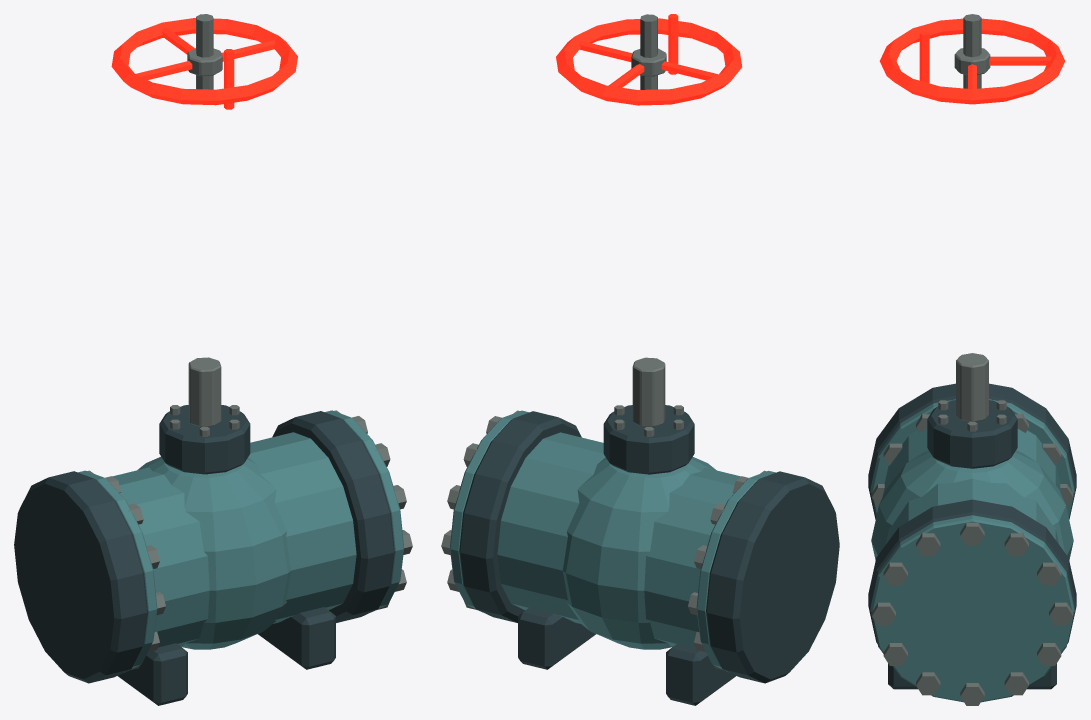
File: pipe-valve.glb
3 views of the same model, side by side, from view 1: azimuth 30°, elevation 25°; view 2: azimuth 150°, elevation 25°; view 3: azimuth 270°, elevation 25° (orthographic).
Visible parts, largest first — view 1: pipe-valve__pipe-valve__steel, pipe-valve__pipe-valve__petrol, pipe-valve__valve-wheel__danger-red, pipe-valve__pipe-valve__hardware, pipe-valve__valve-wheel__hardware; view 2: pipe-valve__pipe-valve__steel, pipe-valve__pipe-valve__petrol, pipe-valve__valve-wheel__danger-red, pipe-valve__pipe-valve__hardware, pipe-valve__valve-wheel__hardware; view 3: pipe-valve__pipe-valve__petrol, pipe-valve__pipe-valve__steel, pipe-valve__pipe-valve__hardware, pipe-valve__valve-wheel__danger-red, pipe-valve__valve-wheel__hardware.
Part boxes in pixels (x1=…): pipe-valve__pipe-valve__steel: x1=14, y1=405, x2=394, y2=705; pipe-valve__pipe-valve__petrol: x1=78, y1=410, x2=403, y2=672; pipe-valve__valve-wheel__danger-red: x1=111, y1=18, x2=297, y2=109; pipe-valve__pipe-valve__hardware: x1=87, y1=357, x2=412, y2=670; pipe-valve__valve-wheel__hardware: x1=187, y1=14, x2=222, y2=89; pipe-valve__pipe-valve__steel: x1=459, y1=405, x2=839, y2=705; pipe-valve__pipe-valve__petrol: x1=450, y1=410, x2=775, y2=671; pipe-valve__valve-wheel__danger-red: x1=556, y1=14, x2=742, y2=105; pipe-valve__pipe-valve__hardware: x1=441, y1=357, x2=766, y2=670; pipe-valve__valve-wheel__hardware: x1=631, y1=14, x2=666, y2=89; pipe-valve__pipe-valve__petrol: x1=870, y1=399, x2=1074, y2=702; pipe-valve__pipe-valve__steel: x1=868, y1=383, x2=1076, y2=689; pipe-valve__pipe-valve__hardware: x1=872, y1=353, x2=1072, y2=705; pipe-valve__valve-wheel__danger-red: x1=879, y1=18, x2=1065, y2=104; pipe-valve__valve-wheel__hardware: x1=954, y1=14, x2=990, y2=88.
Size of the model in its own units: 1.21 by 2.47 by 0.74.
